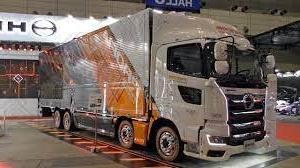truck: (37, 7, 267, 163)
